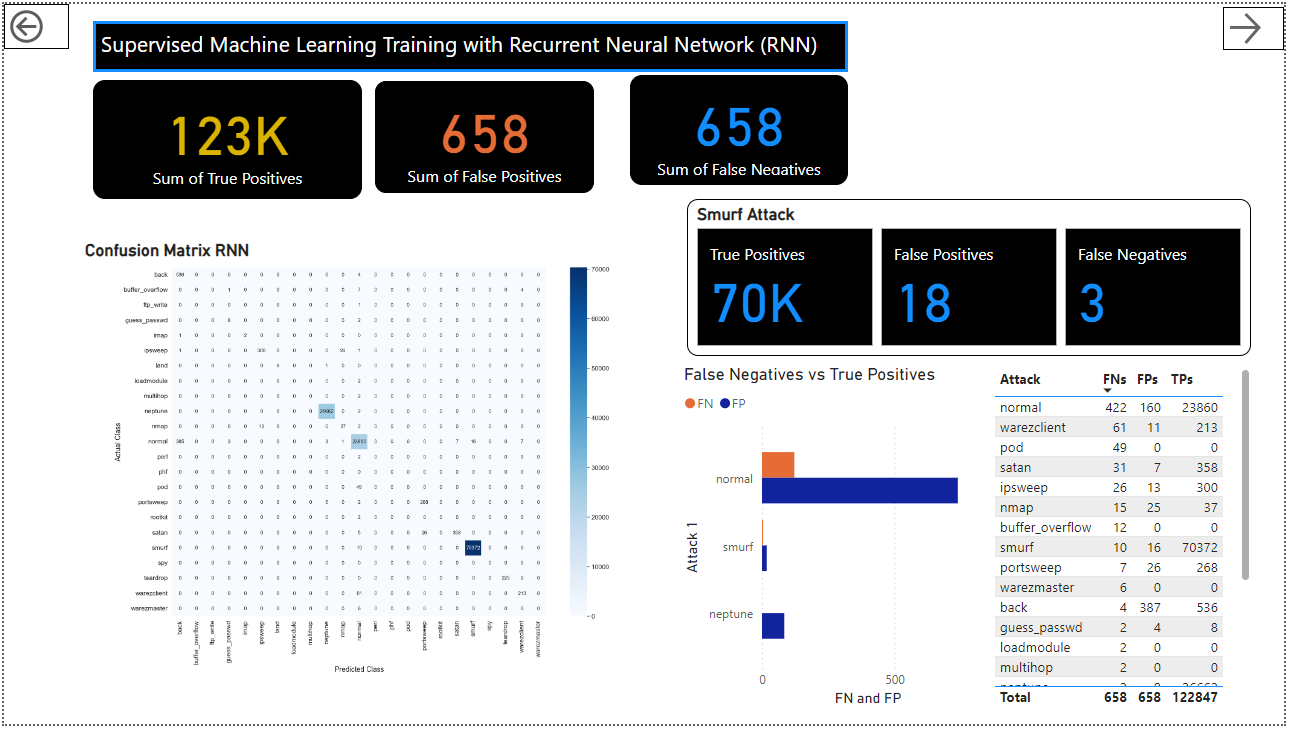

The dashboard page shown, as its layout file describes it:
{"tool":"powerbi","page":{"name":" ML Classification Techniques -RNN","canvas":[1280,720],"ordinal":3},"visuals":[{"type":"card","fields":{"Values":["Sum(RNN.False Positives)"]},"box":[370.5,76.7,219.7,112],"z":0},{"type":"card","fields":{"Values":["Sum(RNN.False Negatives)"]},"box":[626,71.1,218,109.6],"z":1000},{"type":"card","fields":{"Values":["Sum(RNN.True Positives)"]},"box":[88.6,75.8,269.3,118.9],"z":2000},{"type":"cardVisual","title":"Smurf Attack ","fields":{"Data":["Sum(CM.True Positives)","Sum(CM.False Positives)","Sum(CM.False Negatives)"]},"box":[683,195.1,564.5,156.8],"z":3000},{"type":"clusteredBarChart","title":"False Negatives vs  True Positives ","fields":{"Y":["Sum(CM.False Negatives)","Sum(CM.False Positives)"],"Category":["RNN.Attack 1"]},"box":[674.8,360.1,310.1,347.3],"z":4000},{"type":"tableEx","fields":{"Values":["RNN.Attack 1","Sum(RNN.False Negatives)","Sum(RNN.False Positives)","Sum(RNN.True Positives)"]},"box":[985.4,359.9,265.5,347.6],"z":5000},{"type":"textbox","box":[89.1,16.8,755.1,51.2],"z":6000},{"type":"image","title":"Confusion Matrix RNN","box":[75.9,236.4,564.6,441.1],"z":7000},{"type":"actionButton","box":[0,0,64.5,45.4],"z":8000},{"type":"actionButton","box":[1219.1,3.4,60.7,42.2],"z":9000}]}

Visuals, with their boxes in screenshot pixels (x1, y1, x2, y2), scaled from the page's 1280x720 canvas onto the 1290x733 screenshot:
card - Sum(RNN.False Positives): [373,78,595,192]
card - Sum(RNN.False Negatives): [631,72,851,184]
card - Sum(RNN.True Positives): [89,77,361,198]
"Smurf Attack " cardVisual: [688,199,1257,358]
"False Negatives vs  True Positives " clusteredBarChart: [680,367,993,720]
tableEx - RNN.Attack 1 x Sum(RNN.False Negatives): [993,366,1261,720]
textbox: [90,17,851,69]
"Confusion Matrix RNN" image: [76,241,646,690]
actionButton: [0,0,65,46]
actionButton: [1229,3,1289,46]
